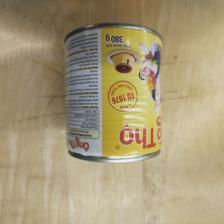Ong_tho: (62, 21, 164, 164)
